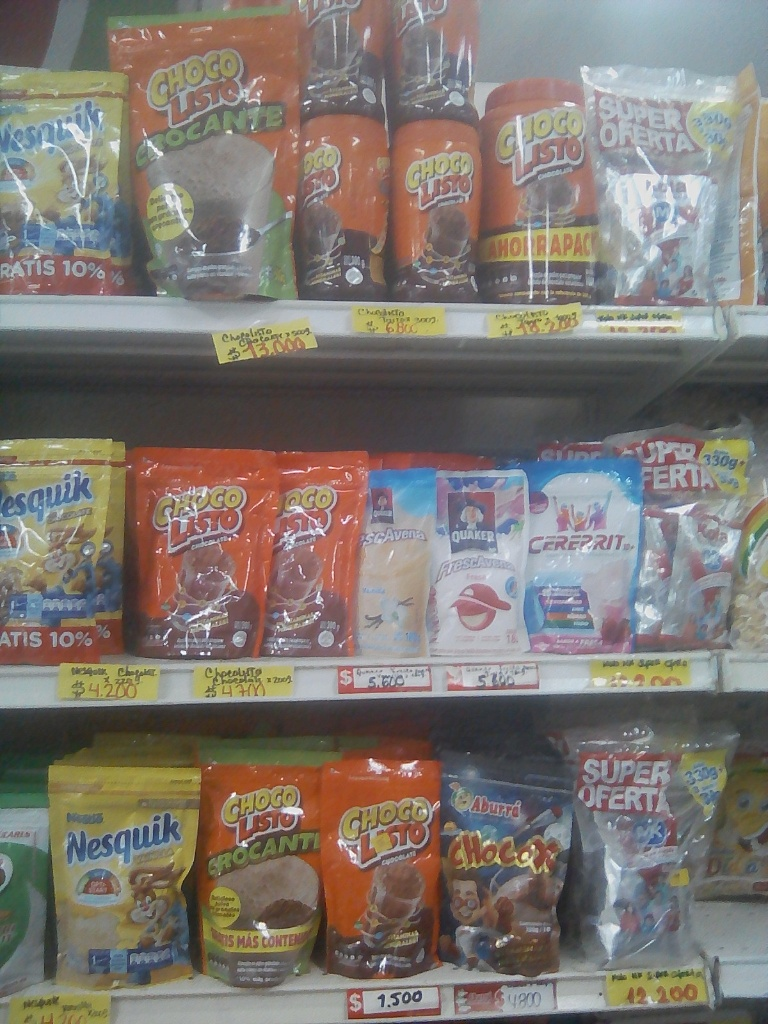COL0170102DYP50000: (111, 4, 297, 299)
COL0170103TRR00100: (478, 65, 602, 306)
COL0170103TRR30000: (301, 2, 387, 117)
COL0170306DYP20000: (41, 762, 199, 988)
